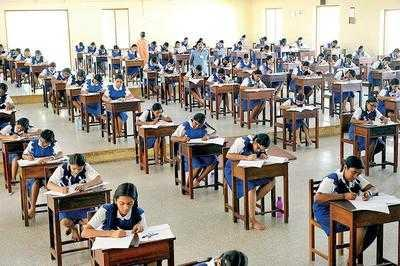invigilator: (191, 41, 211, 80), (137, 30, 151, 70)
student: (314, 152, 390, 235), (88, 191, 177, 254), (226, 131, 298, 205), (43, 154, 110, 220), (168, 114, 227, 176), (17, 129, 65, 191), (347, 97, 394, 158), (136, 100, 175, 159), (285, 88, 321, 150), (98, 77, 136, 132), (238, 70, 273, 121), (85, 71, 105, 96)
